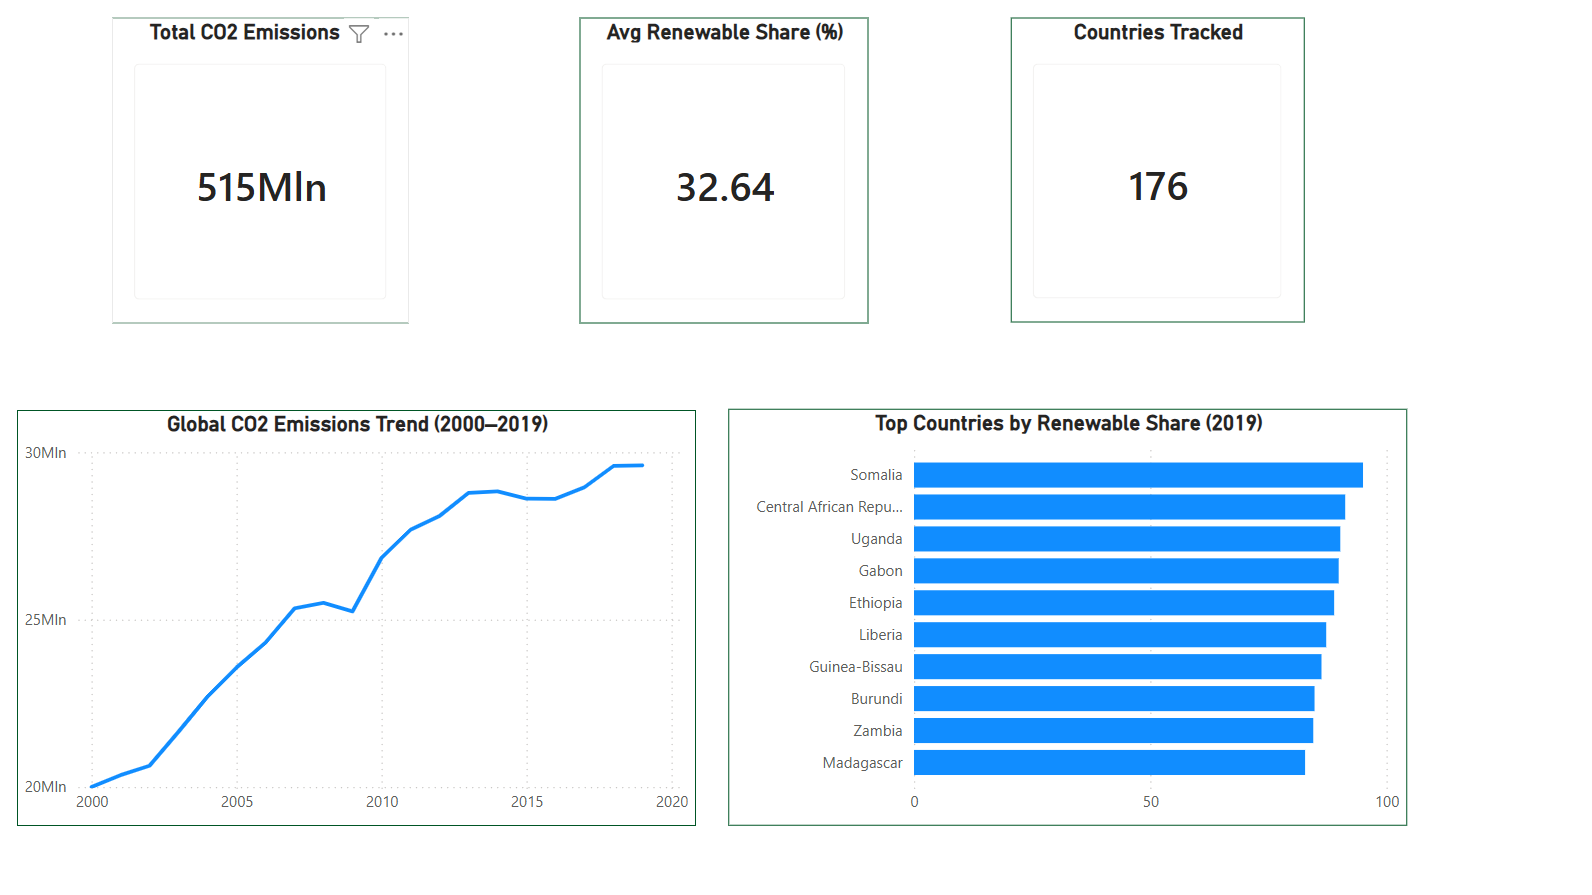

Layout of this report page (visuals, bound fields, positions):
{"tool":"powerbi","page":{"name":"Global Overview","canvas":[1280,720],"ordinal":0},"visuals":[{"type":"cardVisual","title":"Total CO2 Emissions (kt)","fields":{"Data":["Sum(sustainable_energy.Value_co2_emissions_kt_by_country)"]},"box":[92.2,14,238.2,244.5],"z":0},{"type":"cardVisual","title":"Avg Renewable Share (%)","fields":{"Data":["Avg(sustainable_energy.Renewable_energy_share_in_the_total_final_energy_consumption)"]},"box":[465.8,14,230.9,244.5],"z":1000},{"type":"cardVisual","title":"Countries Tracked","fields":{"Data":["Count(sustainable_energy.Entity)"]},"box":[811.3,14,234.5,243.6],"z":2000},{"type":"lineChart","title":"Global CO2 Emissions Trend (2000–2019)","fields":{"Category":["sustainable_energy.Year"],"Y":["Sum(sustainable_energy.Value_co2_emissions_kt_by_country)"]},"box":[15.6,328,543.6,332.7],"z":3000},{"type":"clusteredBarChart","title":"Top Countries by Renewable Share (2019)","fields":{"Category":["sustainable_energy.Entity"],"Y":["Avg(sustainable_energy.Renewable_energy_share_in_the_total_final_energy_consumption)"]},"box":[584.7,327.1,543.6,333.6],"z":4000}]}

Visuals, with their boxes in screenshot pixels (x1, y1, x2, y2), scaled from the page's 1280x720 canvas onto the 1592x895 screenshot:
"Total CO2 Emissions (kt)" cardVisual: [115, 17, 411, 321]
"Avg Renewable Share (%)" cardVisual: [579, 17, 867, 321]
"Countries Tracked" cardVisual: [1009, 17, 1301, 320]
"Global CO2 Emissions Trend (2000–2019)" lineChart: [19, 408, 696, 821]
"Top Countries by Renewable Share (2019)" clusteredBarChart: [727, 407, 1403, 821]
